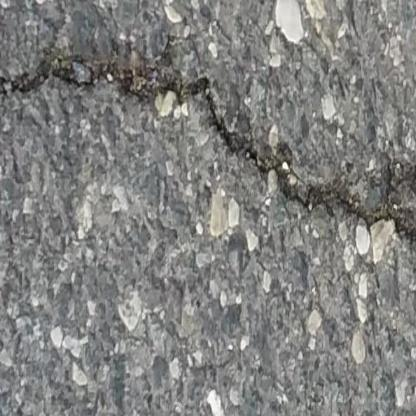Cracks: (0, 36, 416, 248)
